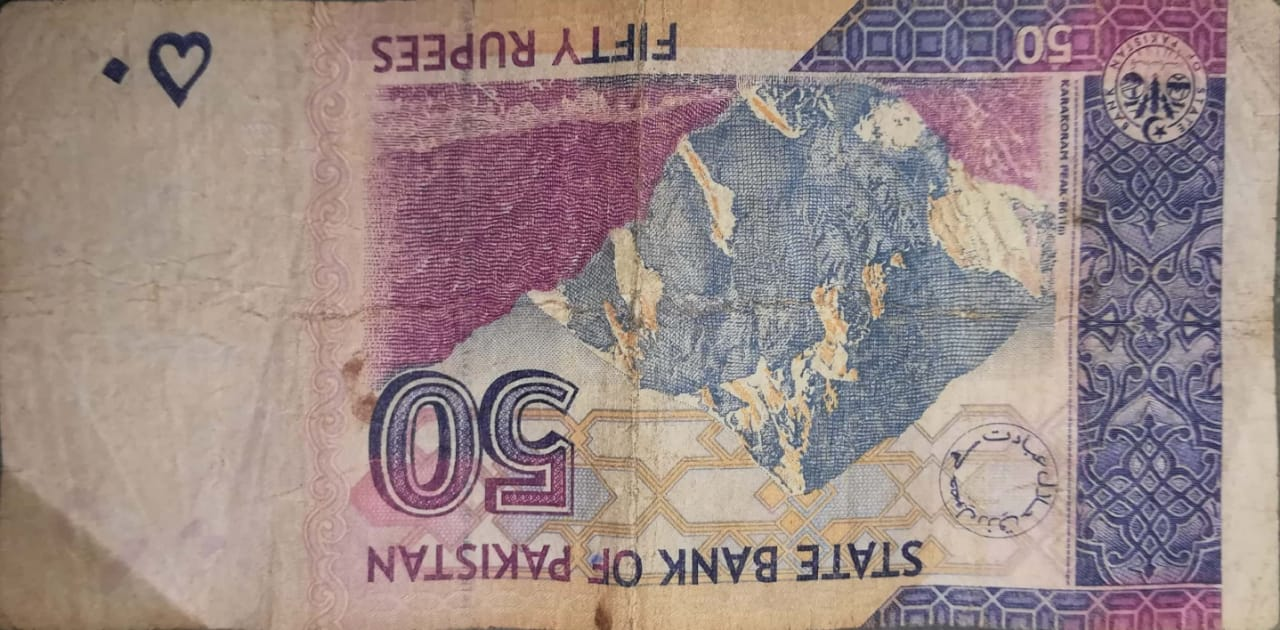50 rupee: (25, 22, 1254, 615)
